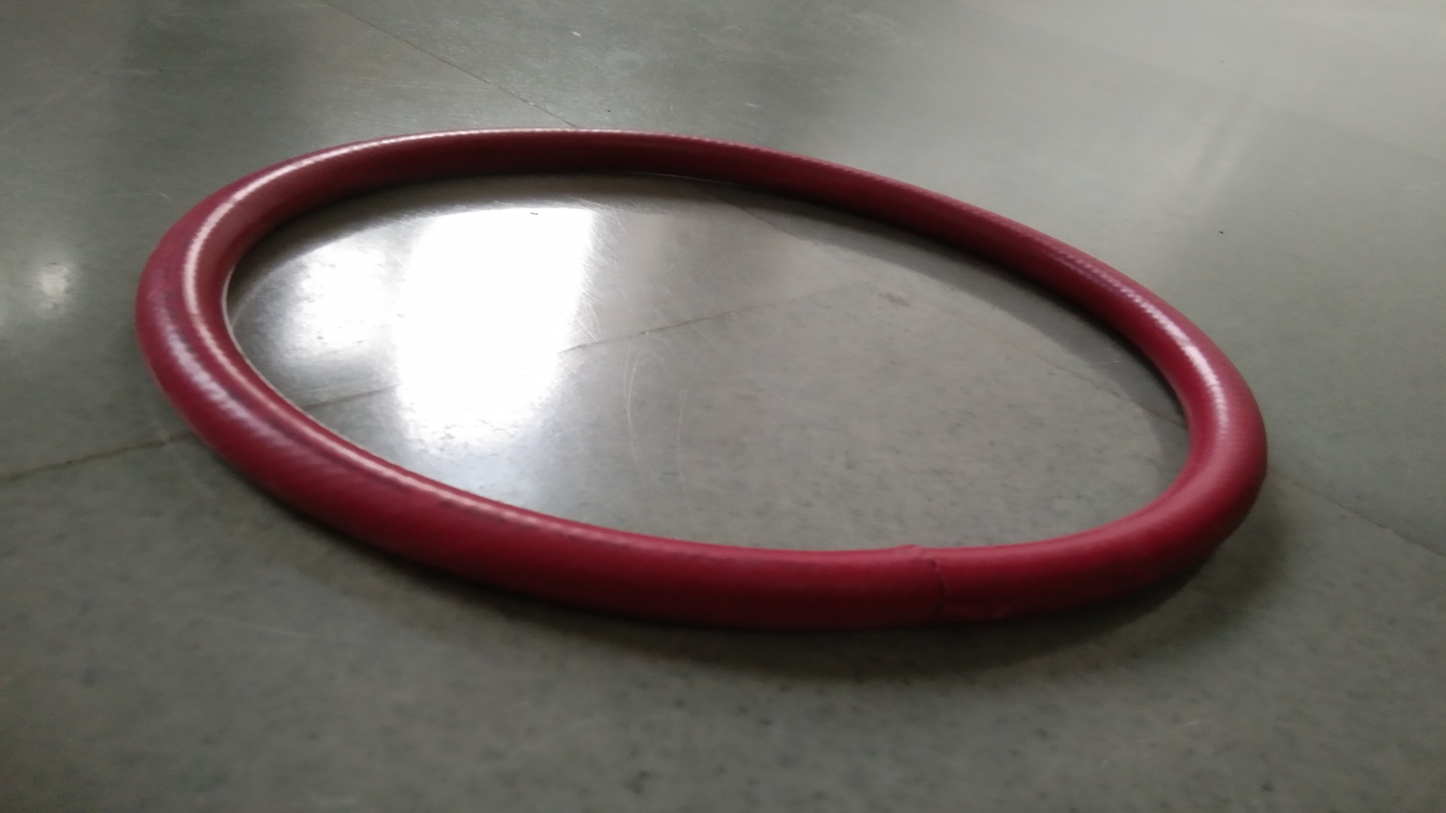Red ring: (140, 129, 1269, 629)
